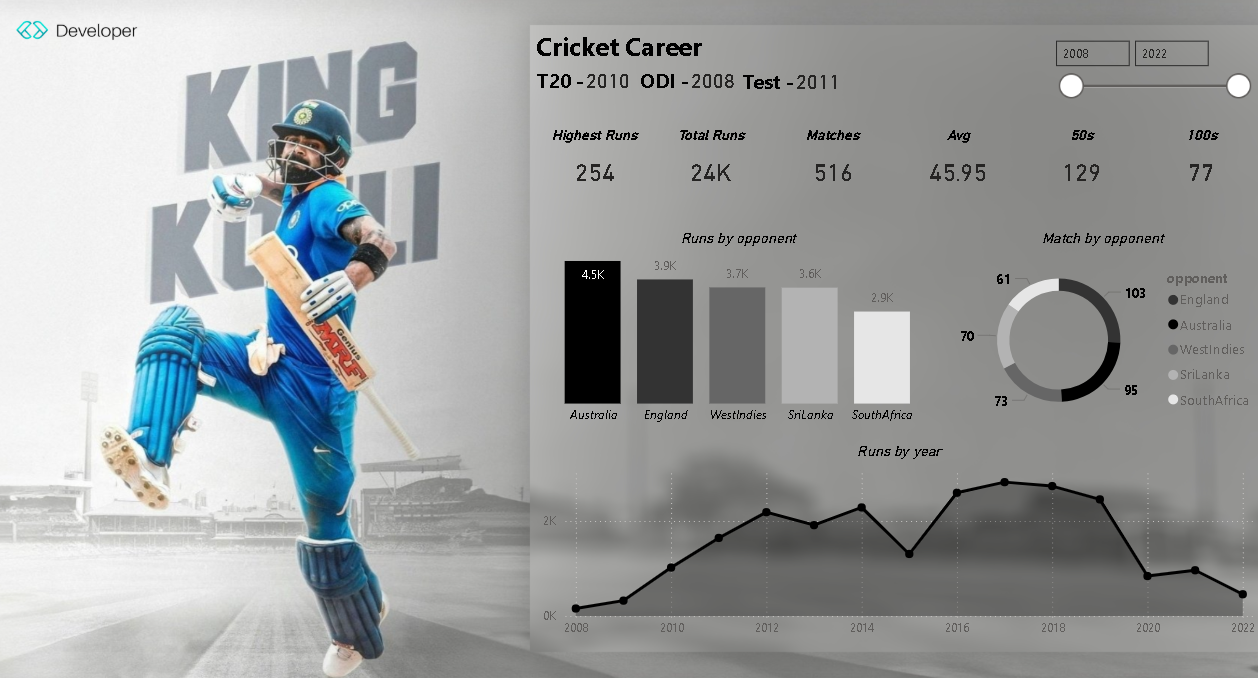

What the dashboard file says about the page in this screenshot:
{"tool":"powerbi","page":{"name":"Page 1","canvas":[1280,720],"ordinal":0},"visuals":[{"type":"card","title":"100s","fields":{"Values":["Sum(Measures_Table.100s)"]},"box":[1162,130.4,117.7,84.8],"z":0},{"type":"clusteredColumnChart","title":" Runs by opponent","fields":{"Category":["Virat_Kohli.opponent"],"Y":["Sum(Virat_Kohli.runs)"]},"box":[541.8,235.4,420.3,215.2],"z":1000},{"type":"donutChart","title":"Match by opponent","fields":{"Category":["Virat_Kohli.opponent"],"Y":["CountNonNull(Virat_Kohli.match)"]},"box":[962,235.4,317.7,215.2],"z":2000},{"type":"stackedAreaChart","title":"Runs by year","fields":{"Category":["Calender.year"],"Y":["Sum(Virat_Kohli.runs)"]},"box":[549.4,450.6,730.4,215.2],"z":2001},{"type":"card","title":"50s","fields":{"Values":["Sum(Virat_Kohli.50s)"]},"box":[1036.7,130.4,125.3,84.8],"z":2002},{"type":"card","title":"Avg","fields":{"Values":["Sum(Measures_Table.Avg)"]},"box":[912.7,130.4,124.1,84.8],"z":2003},{"type":"card","title":"Matches","fields":{"Values":["Sum(Measures_Table.Total_Matches)"]},"box":[782.3,130.4,130.4,84.8],"z":2004},{"type":"card","title":"Total Runs","fields":{"Values":["Sum(Measures_Table.Runs)"]},"box":[665.8,130.4,116.5,84.8],"z":2005},{"type":"card","title":"Highest Runs","fields":{"Values":["Sum(Measures_Table.HighestScore)"]},"box":[546.8,130.4,119,84.8],"z":2006},{"type":"slicer","fields":{"Values":["Calender.year"]},"box":[1060.8,43,219,78.5],"z":2007},{"type":"card","fields":{"Values":["Measures_Table.T20_First_Match"]},"box":[587.3,67.1,64.6,48.1],"z":2008},{"type":"shape","box":[543,72.2,57,41.8],"z":2009},{"type":"shape","box":[541.8,36.7,178.5,41.8],"z":2010},{"type":"card","fields":{"Values":["Measures_Table.ODI_First_Match"]},"box":[696.2,74.7,60.8,32.9],"z":2011},{"type":"shape","box":[651.9,78.5,50.6,30.4],"z":2012},{"type":"card","fields":{"Values":["Measures_Table.Test_First_Match"]},"box":[803.8,75.9,57,32.9],"z":2013},{"type":"shape","box":[750.6,77.2,63.3,32.9],"z":2014}]}

Visuals, with their boxes on the page's 1280x720 design canvas (x1, y1, x2, y2). These are canvas units, not pixel positions in the 1258x678 screenshot, which may show the page scaled, cropped or inside an application window:
"100s" card: bbox(1162, 130, 1280, 215)
" Runs by opponent" clusteredColumnChart: bbox(542, 235, 962, 451)
"Match by opponent" donutChart: bbox(962, 235, 1280, 451)
"Runs by year" stackedAreaChart: bbox(549, 451, 1280, 666)
"50s" card: bbox(1037, 130, 1162, 215)
"Avg" card: bbox(913, 130, 1037, 215)
"Matches" card: bbox(782, 130, 913, 215)
"Total Runs" card: bbox(666, 130, 782, 215)
"Highest Runs" card: bbox(547, 130, 666, 215)
slicer - Calender.year: bbox(1061, 43, 1280, 122)
card - Measures_Table.T20_First_Match: bbox(587, 67, 652, 115)
shape: bbox(543, 72, 600, 114)
shape: bbox(542, 37, 720, 78)
card - Measures_Table.ODI_First_Match: bbox(696, 75, 757, 108)
shape: bbox(652, 78, 702, 109)
card - Measures_Table.Test_First_Match: bbox(804, 76, 861, 109)
shape: bbox(751, 77, 814, 110)
